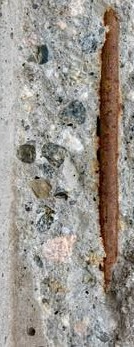Exposed reinforcement: (96, 8, 120, 285)
Spalling: (11, 1, 134, 347)
